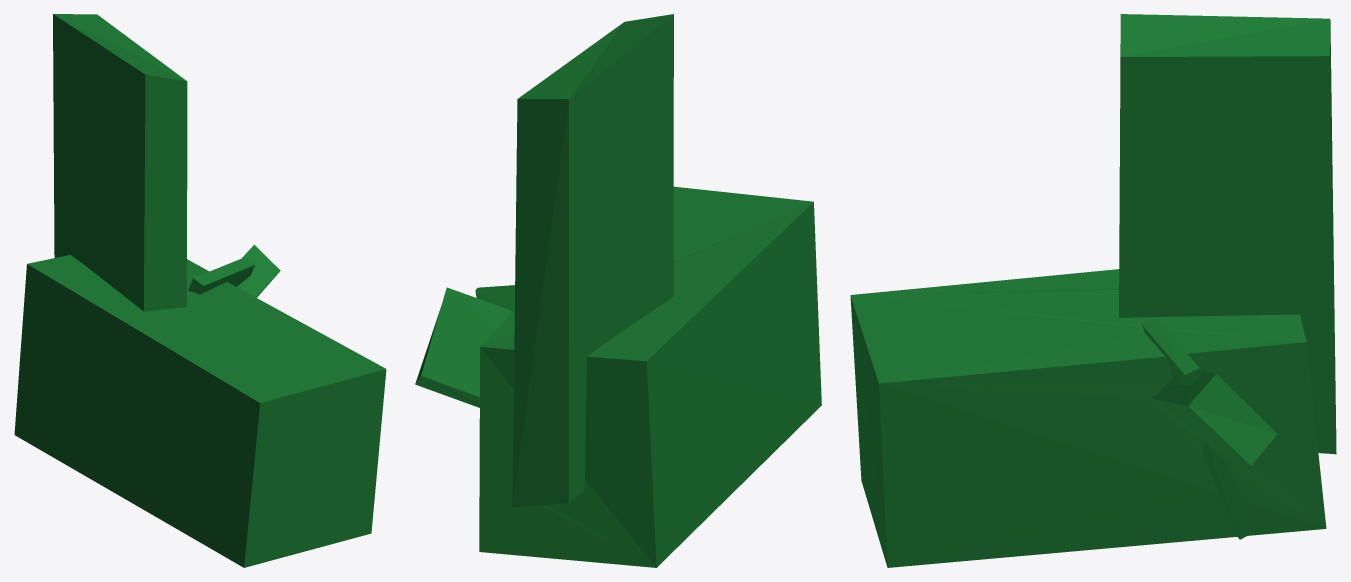
3 views of the same model, side by side, from view 1: azimuth 30°, elevation 25°; view 2: azimuth 150°, elevation 25°; view 3: azimuth 270°, elevation 25° (orthographic). The views are drawn at different scales.
Visible parts, largest first — view 1: 692_Cube.2779; view 2: 692_Cube.2779; view 3: 692_Cube.2779.
Boxes of the visible parts, box(x1,y1,x2,y2) form: 692_Cube.2779: box(14, 14, 386, 567); 692_Cube.2779: box(415, 14, 821, 567); 692_Cube.2779: box(850, 14, 1336, 567).
Size of the model in its own units: 8.13 by 14.51 by 13.24.
